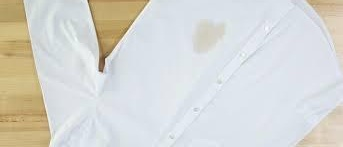coffee: (190, 20, 226, 54)
